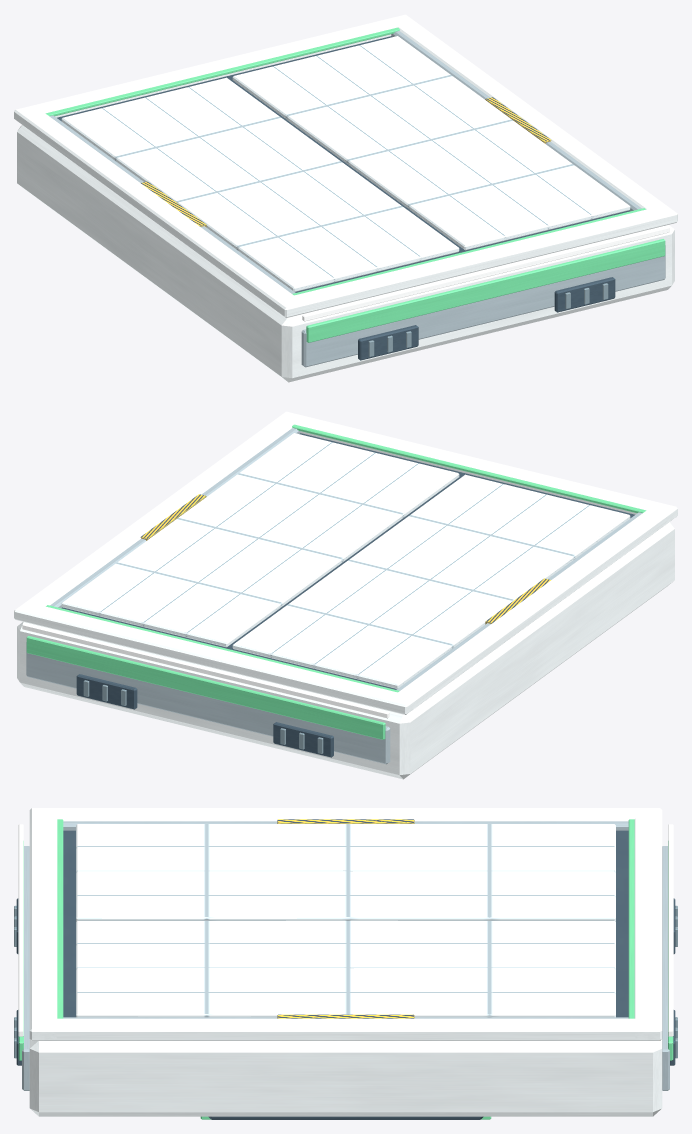
The model's file is platform-small-2m.glb.
The picture shows the model from 3 angles, top to bottom: view 1: azimuth 30°, elevation 25°; view 2: azimuth 150°, elevation 25°; view 3: azimuth 270°, elevation 25°; orthographic projection. The views are drawn at different scales.
Visible parts, largest first — view 1: platform-small-2m; view 2: platform-small-2m; view 3: platform-small-2m.
Boxes of the visible parts, left/top/right/bottom form: platform-small-2m: left=14, top=14, right=677, bottom=382; platform-small-2m: left=14, top=411, right=677, bottom=779; platform-small-2m: left=14, top=808, right=677, bottom=1119.
Size of the model in its own units: 2 by 0.5375 by 2.52.
Materials: 1 (1 with a texture image).
